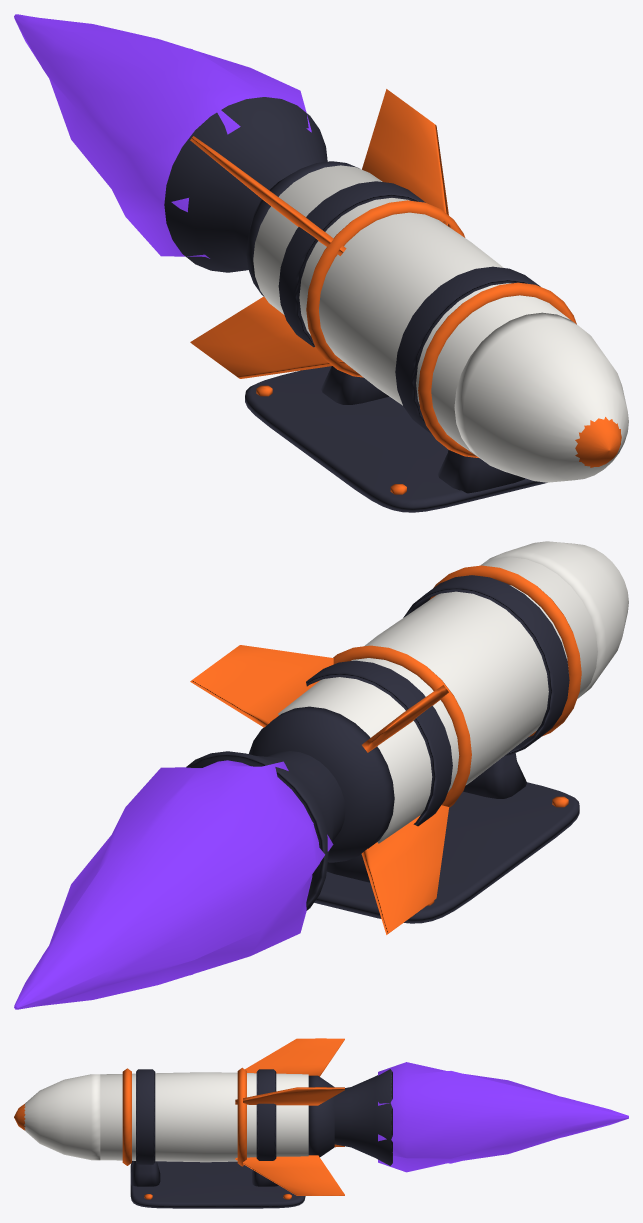
File: rocket_booster.glb
3 renders of one model, top to bottom at view 1: azimuth 30°, elevation 25°; view 2: azimuth 150°, elevation 25°; view 3: azimuth 270°, elevation 25°, orthographic. The views are drawn at different scales.
Visible parts, largest first — view 1: Body, Flame_Outer, NoseCone, MountPlate, Nozzle, Fin_3, Fin_1, Saddle_Front, Saddle_Rear, Stripe_Front, Stripe_Rear, SaddleLeg_Front (+4 smaller); view 2: Flame_Outer, Body, MountPlate, EngineSection, Fin_3, Fin_1, NoseCone, Saddle_Front, Nozzle, Saddle_Rear, Stripe_Rear, Stripe_Front (+3 smaller); view 3: Flame_Outer, Body, MountPlate, NoseCone, Nozzle, Fin_4, Fin_2, Saddle_Front, Saddle_Rear, EngineSection, Fin_1, Stripe_Front (+3 smaller).
Boxes of the visible parts, x1,y1,x2,y2 form: Body: [253, 165, 569, 457]; Flame_Outer: [14, 14, 311, 258]; NoseCone: [454, 312, 628, 482]; MountPlate: [245, 366, 547, 512]; Nozzle: [164, 97, 327, 272]; Fin_3: [190, 296, 345, 378]; Fin_1: [362, 89, 450, 227]; Saddle_Front: [395, 266, 540, 434]; Saddle_Rear: [278, 181, 425, 347]; Stripe_Front: [418, 282, 576, 458]; Stripe_Rear: [306, 200, 465, 377]; SaddleLeg_Front: [437, 450, 524, 493]; Flame_Outer: [14, 760, 333, 1009]; Body: [278, 557, 597, 854]; MountPlate: [314, 782, 579, 923]; EngineSection: [249, 706, 394, 862]; Fin_3: [361, 805, 448, 934]; Fin_1: [190, 645, 333, 727]; NoseCone: [482, 541, 628, 698]; Saddle_Front: [403, 575, 569, 755]; Nozzle: [186, 751, 345, 910]; Saddle_Rear: [306, 660, 452, 826]; Stripe_Rear: [333, 645, 471, 807]; Stripe_Front: [429, 565, 581, 736]; Flame_Outer: [378, 1062, 628, 1172]; Body: [100, 1072, 308, 1162]; MountPlate: [130, 1160, 305, 1208]; NoseCone: [24, 1074, 100, 1160]; Nozzle: [334, 1069, 392, 1165]; Fin_4: [235, 1155, 344, 1195]; Fin_2: [245, 1038, 344, 1076]; Saddle_Front: [136, 1069, 155, 1164]; Saddle_Rear: [256, 1069, 276, 1160]; EngineSection: [308, 1075, 334, 1157]; Fin_1: [235, 1087, 344, 1105]; Stripe_Front: [122, 1068, 131, 1165].
Size of the model in its own units: 0.3994 by 0.4387 by 2.03.
